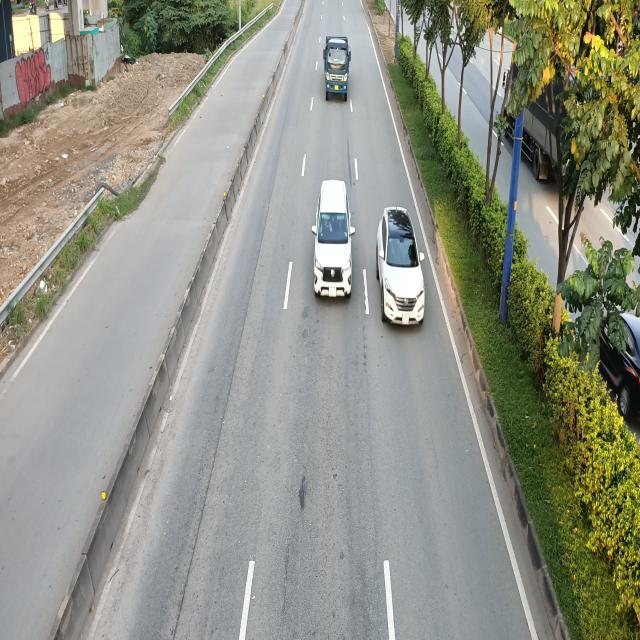car: (374, 208, 423, 328), (314, 179, 357, 296)
truck: (324, 36, 353, 103)
